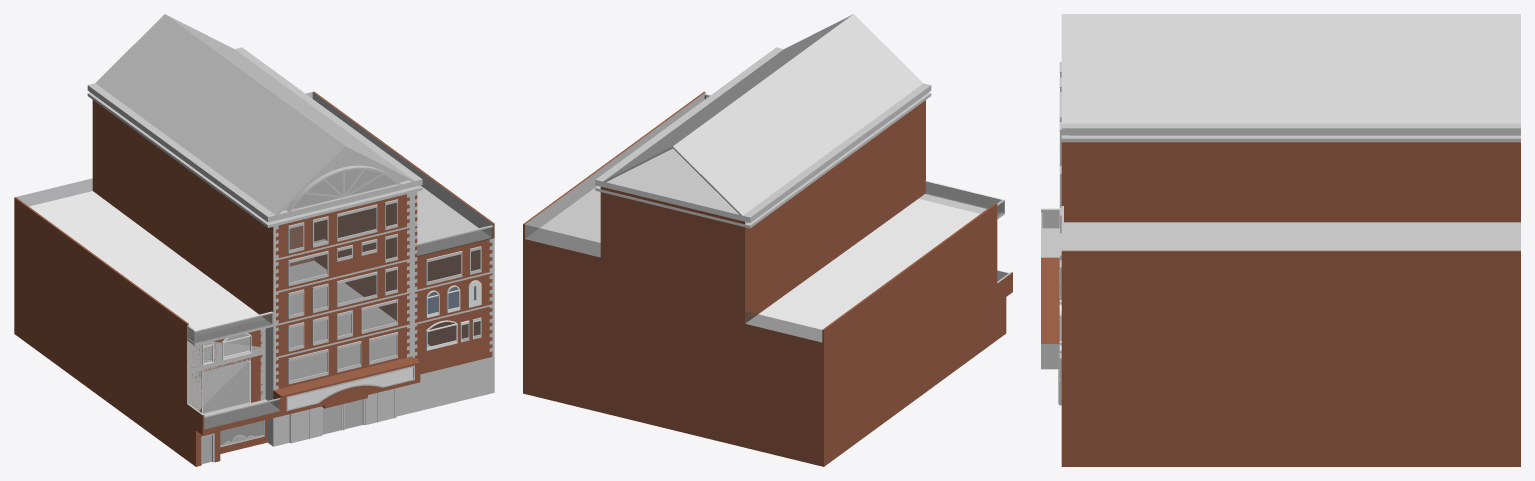
Rendered from camera_1.fbx.
3 renders of one model, left to right at view 1: azimuth 30°, elevation 25°; view 2: azimuth 150°, elevation 25°; view 3: azimuth 270°, elevation 25°, orthographic. The views are drawn at different scales.
Parts seen in each view (by area): view 1: Model; view 2: Model; view 3: Model.
Boxes of the visible parts, x1,y1,x2,y2 form: Model: (14,14,494,466); Model: (523,14,1012,466); Model: (1041,14,1520,466).
Bounding box in the file's own units: 1037 × 934 × 1128.
